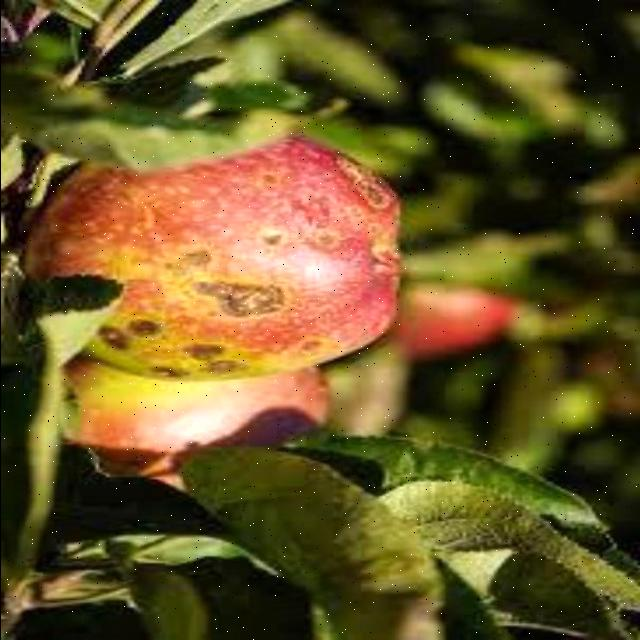SCAB: (35, 130, 441, 404)
